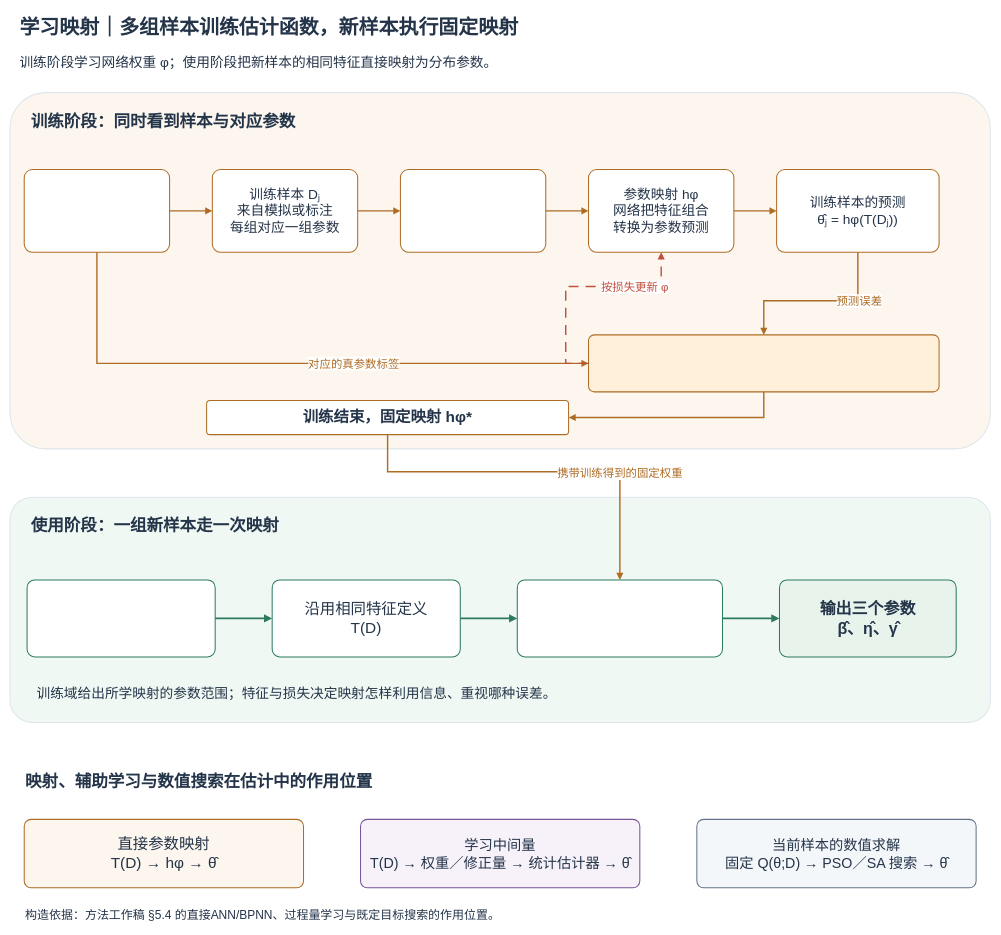
Image size: 1001x935. Some labels were removed from this diagram. Each missing label, with the centre of its shape:
"参数标签 θⱼ βⱼ、ηⱼ、γⱼ 与样本量 nⱼ" belongs at [96,210].
"固定的估计函数 hφ*(T(D))" belongs at [619,618].
"新寿命样本 D 当前观测值" belongs at [120,618].
"统一的特征 T(Dⱼ) 如排序值、分位数 或汇总统计量" belongs at [473,210].
"逐样本对照预测与真值 ℒ(φ) = 平均ⱼ ℓ(θ̂ⱼ, θⱼ)" belongs at [763,363].
